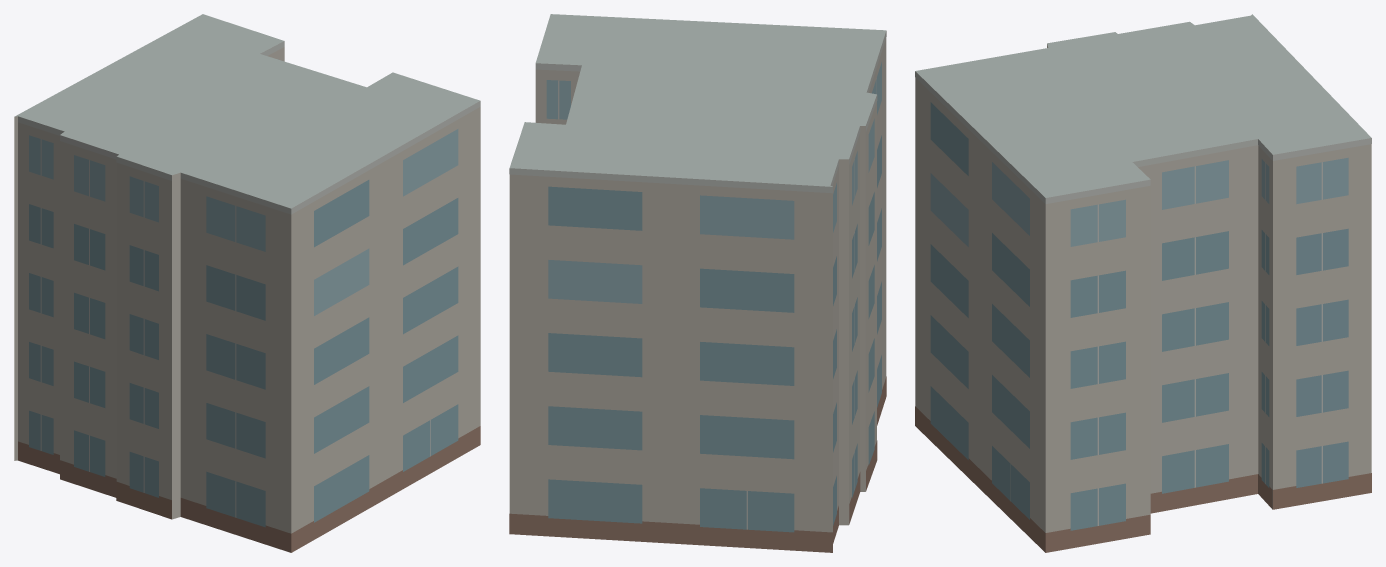
The model's file is survey-upis-32931275.glb.
3 renders of one model, left to right at view 1: azimuth 30°, elevation 25°; view 2: azimuth 150°, elevation 25°; view 3: azimuth 270°, elevation 25°, orthographic. The views are drawn at different scales.
Visible parts, largest first — view 1: survey-upis-32931275.tmp; view 2: survey-upis-32931275.tmp; view 3: survey-upis-32931275.tmp.
Part boxes in pixels (box(x1,y1,x2,y2)): survey-upis-32931275.tmp: box(14, 14, 480, 552); survey-upis-32931275.tmp: box(509, 14, 886, 552); survey-upis-32931275.tmp: box(915, 14, 1371, 552).
Size of the model in its own units: 15.69 by 14.1 by 16.46.
